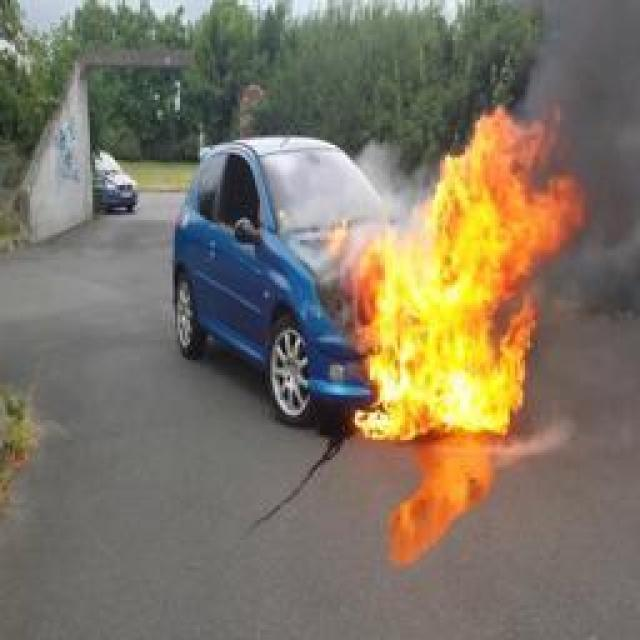Fire: (334, 110, 586, 442)
